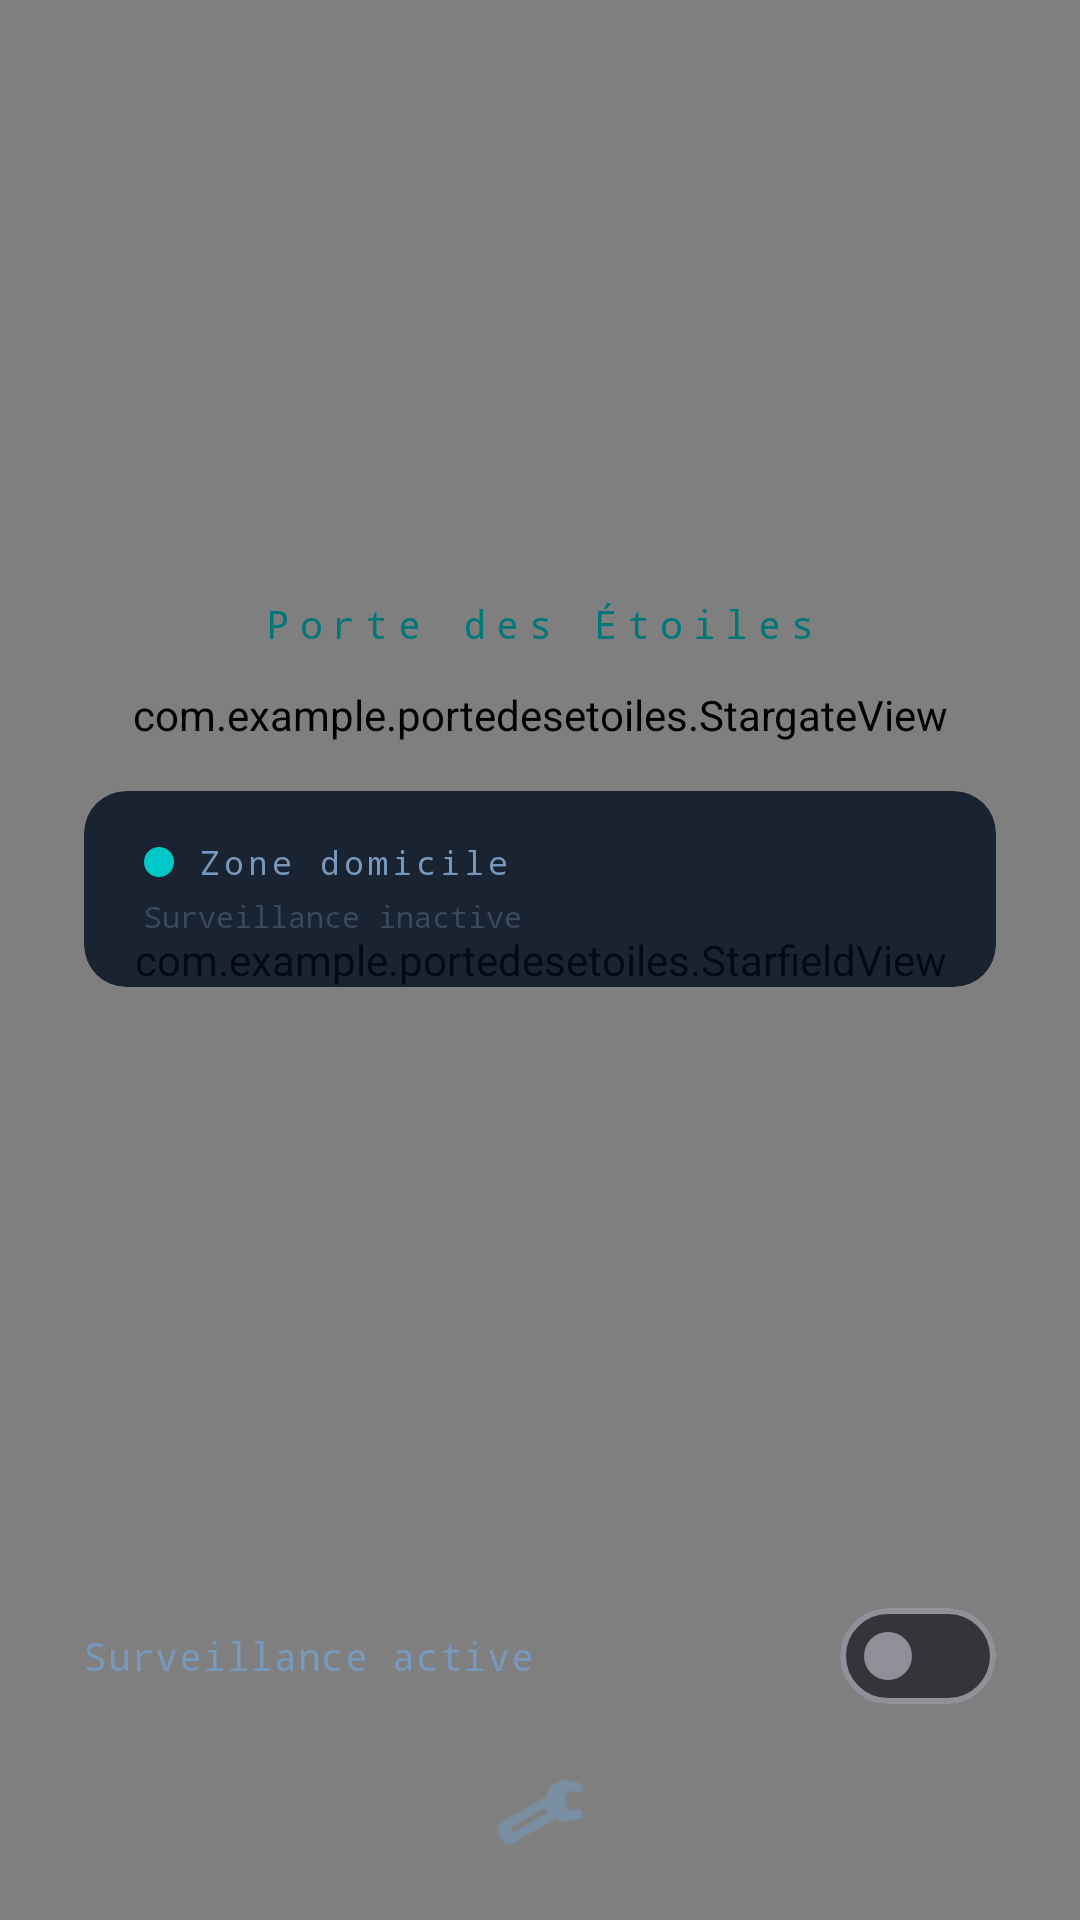

Icon click points for this 1080 × 1920 phone screenshot, format point (x, y):
Paramètres: point (540, 1812)
